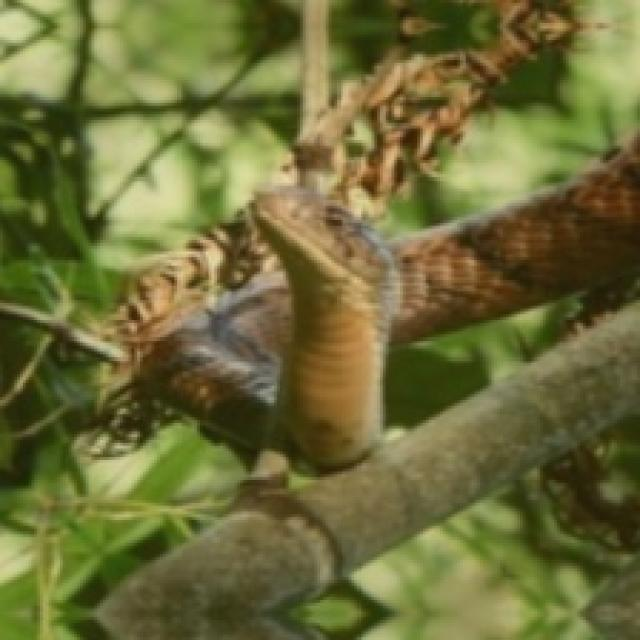king cobra: (143, 186, 394, 469)
